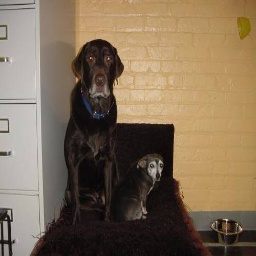dog: (57, 31, 164, 221)
